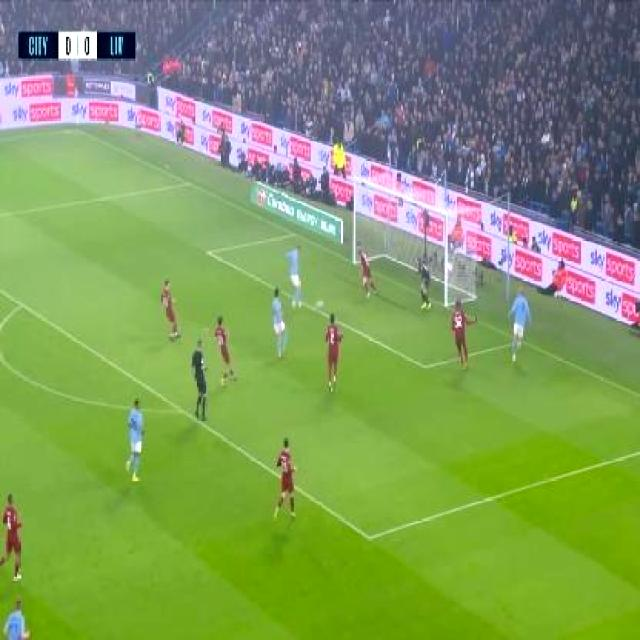bigarea_bottom_inner: (361, 525, 377, 549)
bigarea_top_outter: (182, 177, 192, 189)
bottom_arc_area_intersection: (176, 403, 184, 419)
corner: (68, 126, 80, 134)
smallarea_bottom_inner: (417, 357, 431, 375)
smallarea_top_inner: (203, 245, 215, 260)
smallarea_top_outter: (290, 229, 298, 240)
top_arc_area_intersection: (16, 297, 24, 312)
